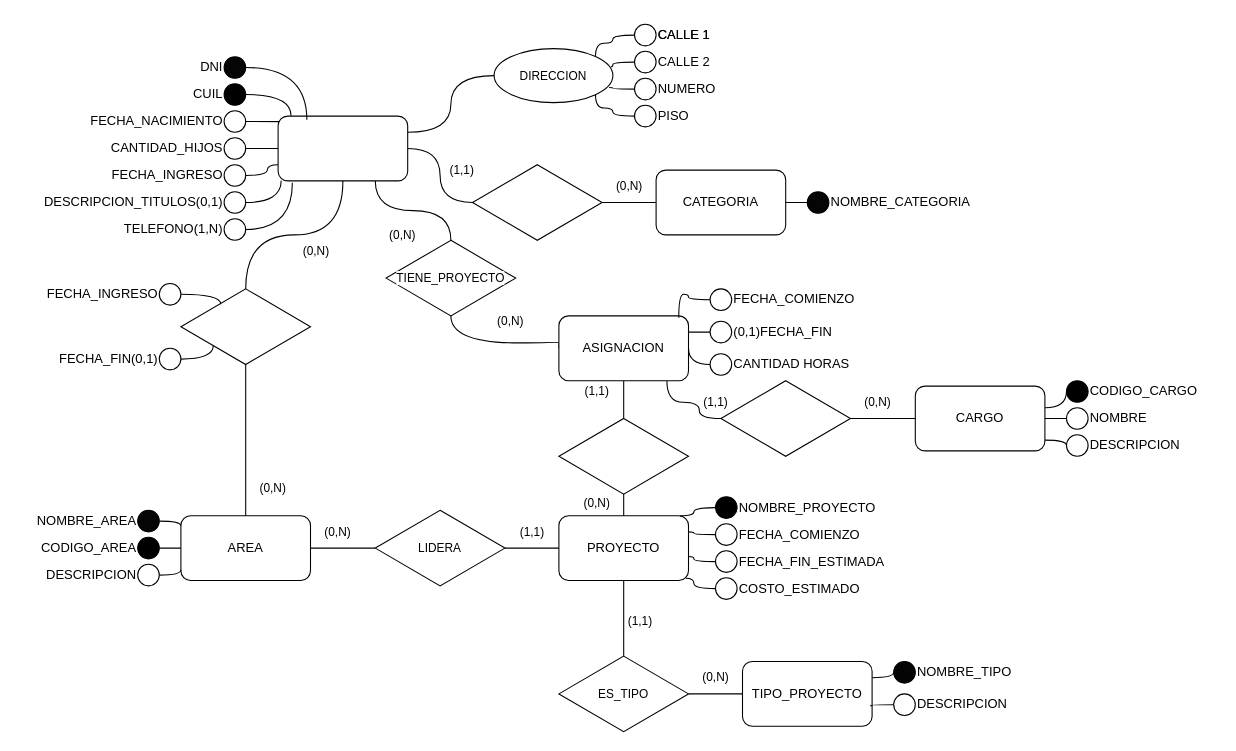
Image size: 1236x751. Some labels were removed from this diagram. Here are the shapes that lost their labels. From the top down, the box of each, then its label:
(277, 115, 408, 181): EMPLEADO
(471, 164, 602, 240): PERTENECE
(180, 288, 310, 364): TRABAJA_EN
(720, 380, 850, 456): POSEE_CARGO
(558, 417, 688, 494): ASIGNADO_A
